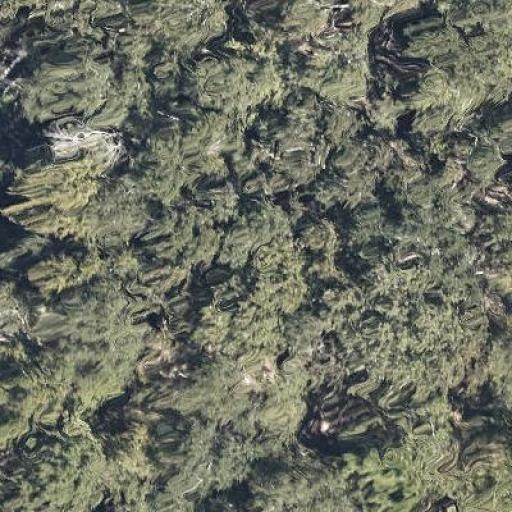tree-top: (338, 266, 473, 399), (388, 0, 511, 137), (344, 420, 466, 509), (35, 280, 147, 374), (145, 193, 287, 266), (12, 419, 110, 512), (12, 54, 130, 130), (201, 276, 304, 361), (5, 151, 96, 239), (238, 102, 330, 189), (155, 422, 254, 496), (327, 125, 399, 207), (188, 46, 274, 111), (89, 178, 159, 256), (127, 0, 230, 52), (170, 354, 245, 424), (304, 26, 370, 102), (248, 463, 338, 512), (127, 124, 186, 198), (456, 435, 512, 512), (251, 0, 333, 50), (244, 384, 312, 443), (37, 120, 129, 162), (0, 366, 54, 424)
